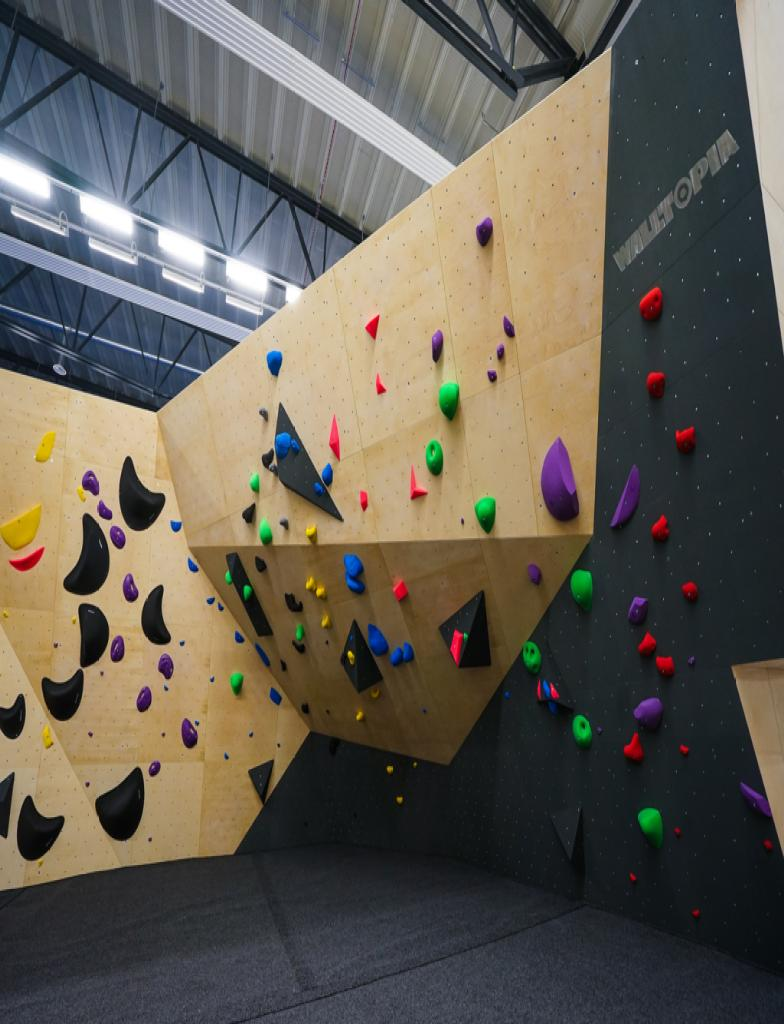crimp: (262, 448, 273, 468), (550, 684, 559, 699), (315, 483, 324, 495), (497, 343, 504, 358), (291, 440, 299, 453), (488, 369, 496, 381), (680, 744, 688, 754), (537, 682, 541, 700), (629, 873, 635, 882), (693, 909, 699, 918), (688, 655, 694, 664)
jib: (675, 828, 680, 837), (3, 610, 8, 618), (397, 796, 402, 804), (224, 751, 228, 759), (387, 766, 392, 772), (179, 640, 185, 645), (164, 685, 168, 692), (88, 732, 93, 737), (248, 732, 253, 737), (72, 616, 76, 622), (597, 726, 601, 732), (54, 643, 58, 648), (100, 671, 104, 676), (85, 781, 89, 786), (210, 676, 214, 681), (195, 721, 199, 726), (148, 837, 152, 841), (162, 732, 165, 736), (326, 711, 329, 714)
jug: (634, 697, 662, 729), (639, 286, 662, 319), (623, 733, 642, 762), (675, 427, 694, 453), (475, 217, 492, 246), (647, 372, 665, 397), (652, 514, 668, 540), (656, 655, 674, 676), (275, 432, 290, 457), (345, 574, 364, 592), (285, 594, 302, 612), (682, 582, 697, 601), (242, 502, 255, 522), (305, 525, 316, 541), (292, 641, 305, 653), (305, 576, 315, 591), (322, 616, 331, 629), (316, 587, 325, 597), (348, 651, 354, 664), (356, 709, 363, 720), (371, 689, 379, 697), (302, 705, 309, 714)
ledge: (119, 456, 165, 529), (17, 795, 64, 859), (41, 669, 83, 720), (0, 504, 41, 549), (0, 694, 25, 738), (9, 547, 44, 570), (35, 430, 55, 460), (450, 630, 463, 666), (629, 597, 647, 622), (365, 315, 378, 340), (97, 501, 112, 519), (270, 687, 282, 705), (170, 520, 181, 531), (234, 631, 244, 642), (206, 597, 214, 604), (218, 603, 223, 612)
pinch: (393, 580, 407, 600)
pocket: (522, 640, 541, 673), (572, 714, 591, 747), (426, 440, 443, 476), (181, 718, 197, 747), (122, 573, 138, 601), (81, 471, 99, 495), (136, 685, 151, 711), (110, 634, 124, 661), (158, 654, 173, 679), (109, 525, 125, 547), (149, 760, 160, 775)
sidepull: (64, 513, 109, 594), (541, 438, 578, 520), (78, 603, 109, 667), (611, 465, 639, 526), (142, 585, 170, 643), (410, 465, 428, 499), (329, 414, 339, 459), (639, 633, 655, 655), (432, 330, 443, 361), (43, 726, 54, 749), (503, 315, 514, 336), (376, 373, 386, 395), (361, 490, 368, 512), (188, 558, 198, 571), (77, 486, 85, 501)
sloper: (95, 766, 144, 840), (637, 808, 662, 847), (570, 570, 592, 610), (439, 381, 459, 418), (475, 496, 495, 532), (266, 351, 282, 375), (259, 519, 272, 544), (230, 670, 243, 694), (390, 646, 403, 666), (403, 642, 413, 661), (250, 472, 259, 492), (243, 585, 252, 600), (296, 624, 304, 640), (225, 570, 231, 583)
undercling: (344, 553, 363, 576), (255, 643, 270, 666), (528, 564, 541, 583), (255, 556, 266, 571)
volume: (227, 553, 272, 634), (552, 802, 584, 871), (248, 759, 273, 804)
